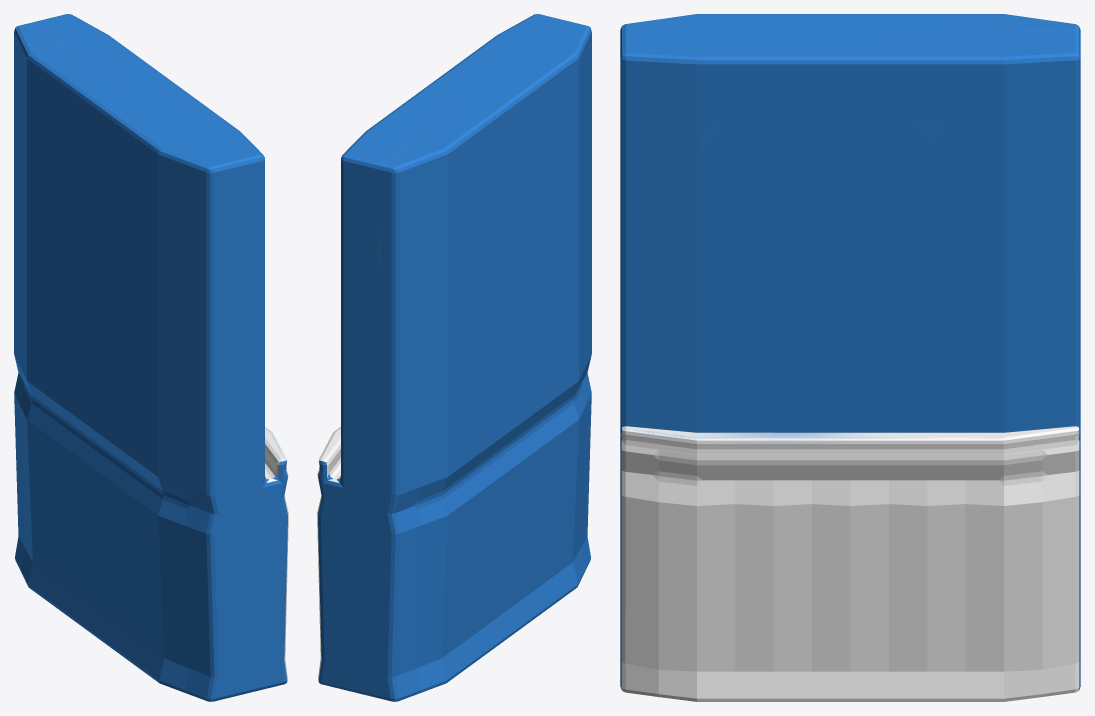
File: Half wall toy room 2.fbx
3 renders of one model, left to right at view 1: azimuth 30°, elevation 25°; view 2: azimuth 150°, elevation 25°; view 3: azimuth 270°, elevation 25°, orthographic. The views are drawn at different scales.
Parts seen in each view (by area): view 1: Cube; view 2: Cube; view 3: Cube.
Part boxes in pixels (bbox=[...]): Cube: bbox=[14, 14, 288, 701]; Cube: bbox=[317, 14, 591, 701]; Cube: bbox=[620, 14, 1080, 701].
Bounding box in the file's own units: 205 × 900 × 600.
Materials: 1 (1 with a texture image).
